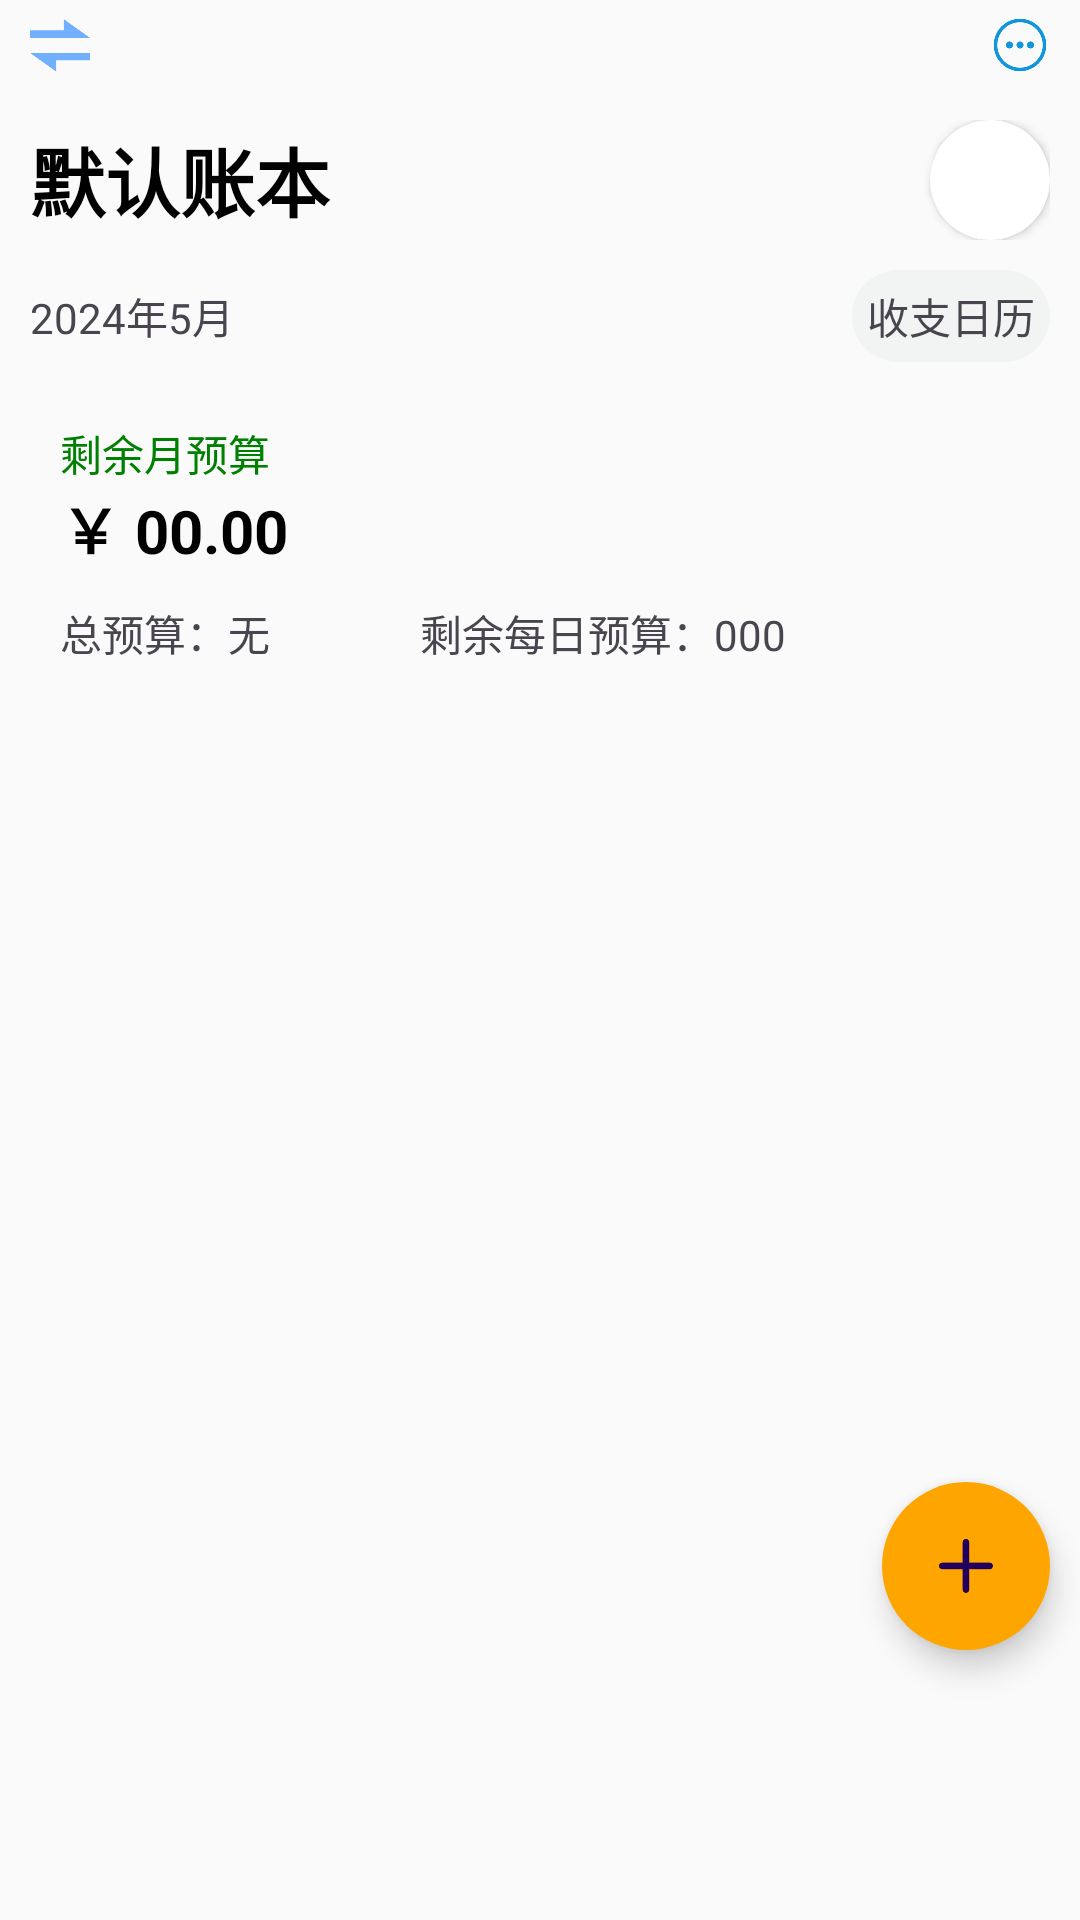

Named icons in this screenshot (1080w x 1920h) and their centers, (x,y):
add: (966,1566)
exchange: (60,45)
more: (1020,45)
